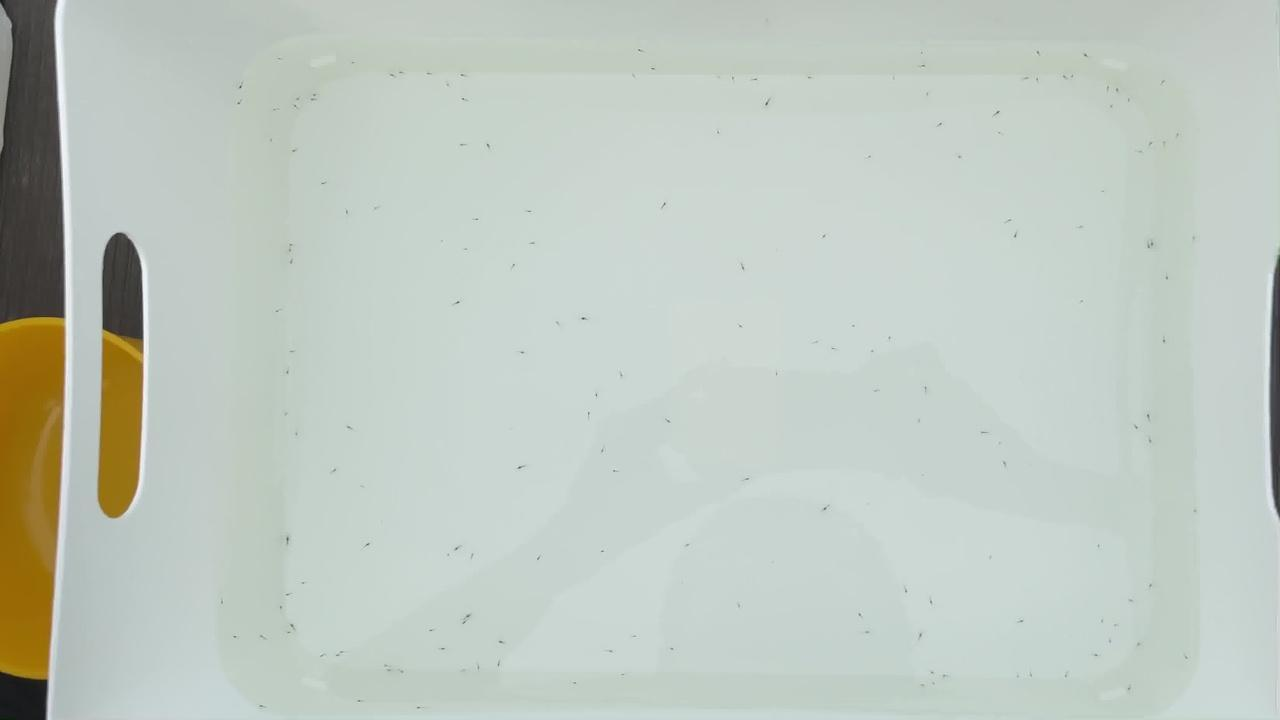shrimp: (1157, 79, 1170, 87), (1123, 96, 1136, 104), (1103, 85, 1116, 93), (1103, 102, 1116, 110), (1156, 140, 1169, 148), (1173, 130, 1186, 138), (712, 129, 725, 137), (1074, 224, 1087, 232), (1190, 506, 1203, 514), (1102, 639, 1115, 647), (827, 346, 840, 354), (818, 506, 831, 514), (898, 584, 911, 592), (916, 633, 929, 641), (854, 611, 867, 619), (927, 678, 940, 686), (938, 672, 951, 680), (460, 666, 473, 674), (395, 667, 408, 675), (385, 666, 398, 674), (314, 650, 327, 658), (427, 628, 440, 636), (442, 550, 455, 558), (607, 467, 620, 475), (615, 373, 628, 381), (526, 240, 539, 248), (484, 141, 497, 149), (270, 107, 283, 115), (309, 90, 322, 98), (286, 146, 299, 154), (341, 207, 354, 215), (282, 246, 295, 254), (271, 306, 284, 314), (231, 634, 244, 642), (1111, 85, 1123, 93), (1033, 52, 1045, 60), (635, 46, 647, 54), (1000, 218, 1012, 226), (994, 439, 1006, 447), (618, 672, 630, 680), (380, 661, 392, 669), (457, 141, 469, 149), (396, 69, 408, 77), (285, 240, 297, 248), (280, 368, 292, 376), (1130, 150, 1143, 157), (1141, 142, 1154, 149), (1059, 75, 1072, 82), (1083, 51, 1096, 58), (1030, 78, 1043, 85), (993, 110, 1006, 117), (953, 154, 966, 161), (936, 123, 949, 130), (886, 76, 899, 83), (864, 153, 877, 160), (803, 73, 816, 80), (762, 102, 775, 109), (750, 77, 763, 84), (727, 76, 740, 83), (710, 74, 723, 81), (659, 200, 672, 207), (734, 263, 747, 270), (819, 233, 832, 240), (1008, 233, 1021, 240), (1094, 187, 1107, 194), (1143, 244, 1156, 251), (1146, 239, 1159, 246), (1161, 276, 1174, 283), (1156, 337, 1169, 344), (1074, 297, 1087, 304), (1129, 424, 1142, 431), (1144, 438, 1157, 445), (1092, 542, 1105, 549), (1145, 580, 1158, 587), (1125, 596, 1138, 603), (1095, 617, 1108, 624), (1133, 641, 1146, 648), (1123, 684, 1136, 691), (1179, 652, 1192, 659), (1090, 653, 1103, 660), (1061, 671, 1074, 678), (1023, 671, 1036, 678), (985, 553, 998, 560), (999, 459, 1012, 466), (978, 430, 991, 437), (920, 387, 933, 394), (914, 421, 927, 428), (869, 388, 882, 395), (866, 348, 879, 355), (884, 333, 897, 340), (846, 324, 859, 331), (809, 340, 822, 347), (771, 371, 784, 378), (735, 321, 748, 328), (741, 475, 754, 482), (924, 596, 937, 603), (926, 670, 939, 677), (918, 681, 931, 688), (732, 602, 745, 609), (665, 646, 678, 653), (681, 540, 694, 547), (628, 633, 641, 640), (603, 648, 616, 655), (568, 681, 581, 688), (493, 661, 506, 668), (471, 662, 484, 669), (412, 707, 425, 714), (354, 696, 367, 703), (254, 703, 267, 710), (330, 652, 343, 659), (440, 646, 453, 653), (460, 613, 473, 620), (465, 552, 478, 559), (531, 555, 544, 562), (517, 461, 530, 468), (660, 417, 673, 424), (583, 412, 596, 419), (590, 393, 603, 400), (578, 316, 591, 323), (517, 350, 530, 357), (452, 301, 465, 308), (507, 263, 520, 270), (459, 247, 472, 254), (470, 215, 483, 222), (521, 208, 534, 215), (458, 96, 471, 103), (458, 70, 471, 77), (441, 83, 454, 90), (385, 71, 398, 78), (349, 62, 362, 69), (235, 84, 248, 91), (234, 99, 247, 106), (308, 96, 321, 103), (265, 137, 278, 144), (318, 180, 331, 187), (369, 205, 382, 212), (284, 349, 297, 356), (341, 427, 354, 434), (290, 432, 303, 439), (282, 411, 295, 418), (328, 469, 341, 476), (361, 542, 374, 549), (297, 578, 310, 585), (280, 594, 293, 601), (273, 603, 286, 610), (286, 621, 299, 628), (284, 628, 297, 635), (255, 635, 268, 642), (216, 600, 229, 607), (356, 484, 369, 491), (1066, 74, 1078, 81), (1022, 75, 1034, 82), (995, 126, 1007, 133), (923, 90, 935, 97), (917, 64, 929, 71), (917, 49, 929, 56), (645, 65, 657, 72), (629, 74, 641, 81), (1189, 237, 1201, 244), (1144, 414, 1156, 421), (1111, 623, 1123, 630), (1011, 671, 1023, 678), (1017, 618, 1029, 625), (862, 629, 874, 636), (496, 639, 508, 646), (336, 648, 348, 655), (457, 621, 469, 628), (452, 546, 464, 553), (596, 548, 608, 555), (596, 444, 608, 451), (552, 319, 564, 326), (424, 70, 436, 77), (274, 57, 286, 64), (291, 102, 303, 109), (291, 94, 303, 101), (286, 259, 298, 266), (280, 536, 292, 543)
